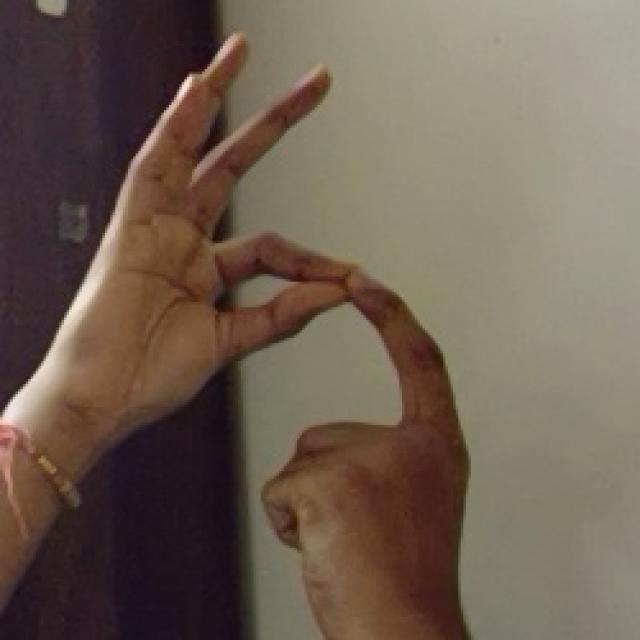Alphabet-P: (48, 16, 488, 640)
